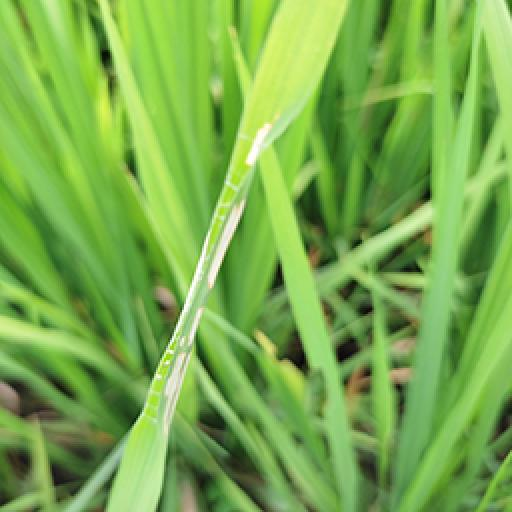Bacterial Leaf Blight: (148, 348, 210, 452), (157, 228, 207, 348), (208, 184, 256, 288), (228, 110, 290, 166)
